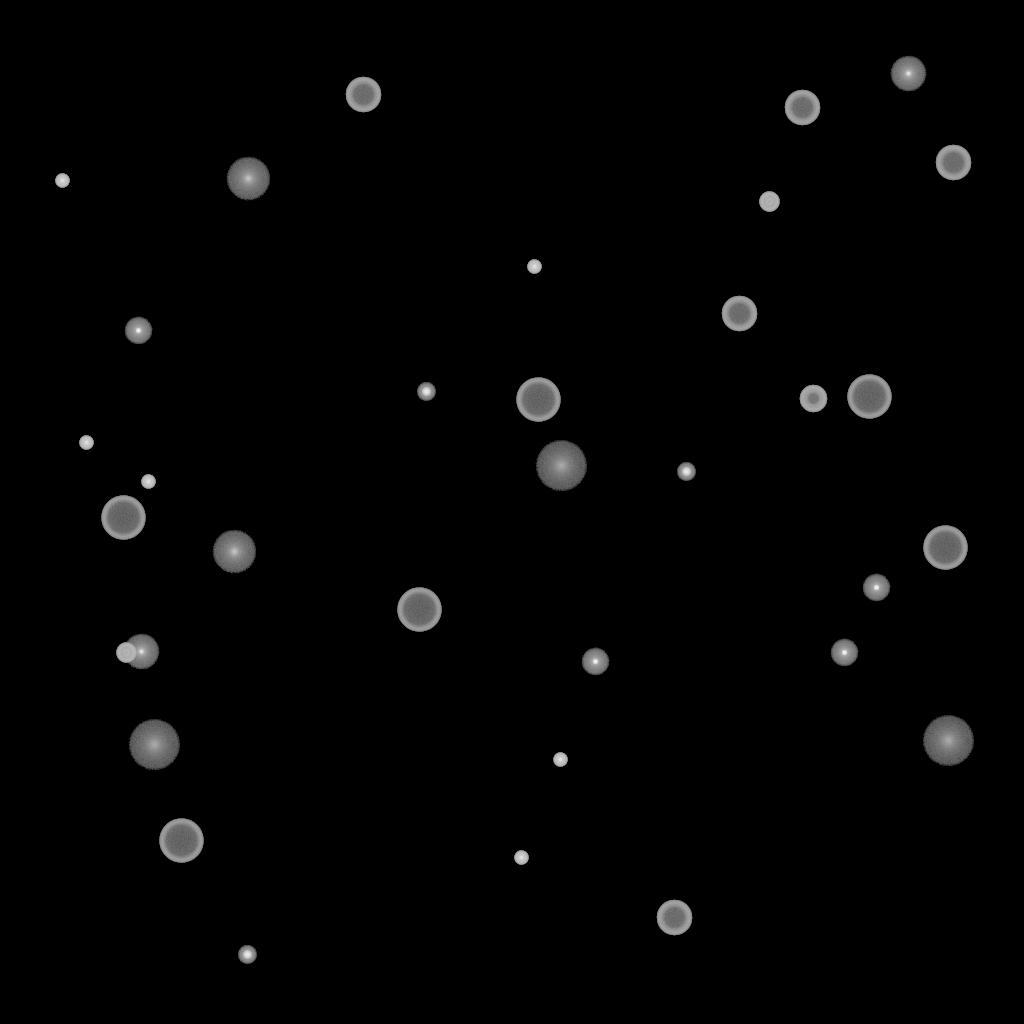depth:-10: (862, 574, 890, 602), (124, 317, 152, 345), (581, 648, 609, 676), (830, 639, 858, 667)
depth:-20: (238, 946, 256, 964), (417, 383, 435, 401), (677, 463, 695, 481)
depth:-30: (553, 753, 567, 767), (79, 436, 93, 450), (527, 260, 541, 274), (141, 475, 155, 489), (514, 851, 528, 865), (55, 174, 69, 188)
depth:-40: (116, 643, 136, 663), (759, 192, 779, 212)
depth:-50: (799, 385, 827, 413)
depth:-60: (784, 90, 820, 126), (935, 145, 971, 181), (656, 900, 692, 936), (345, 77, 381, 113), (721, 296, 757, 332)
depth:-70: (923, 526, 967, 570), (847, 375, 891, 419), (159, 819, 203, 863), (101, 496, 145, 540), (516, 378, 560, 422), (397, 588, 441, 632)
depth:0: (890, 56, 926, 92), (123, 634, 159, 670)
depth:10: (226, 157, 270, 201), (212, 530, 256, 574)
depth:20: (922, 716, 974, 766), (535, 441, 587, 491), (128, 720, 180, 770)
